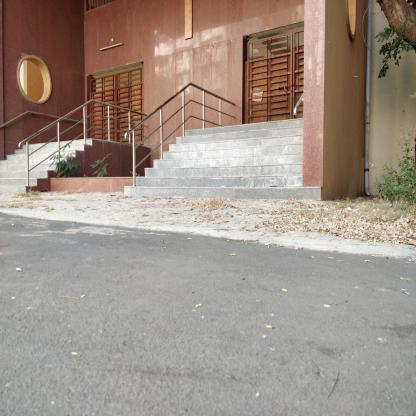stairs: (174, 136, 302, 203)
